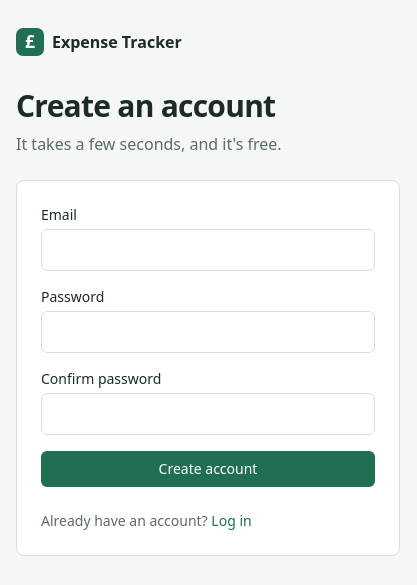
Test: RegisterPage › stops when the passwords don't match
The width and height of the screenshot is (417, 585).
Type "zain@example.com" into the field labelled "Email" at (208, 250), box [41,229,375,271]
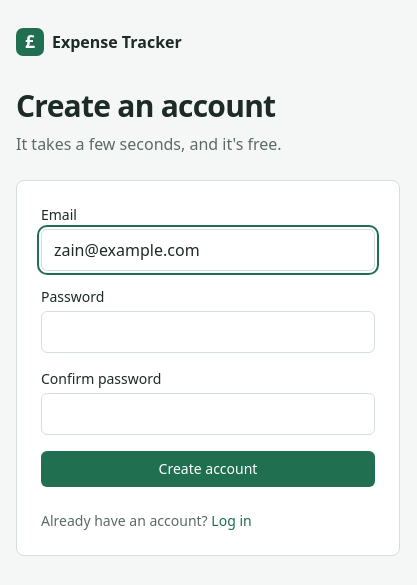
Type "correct-horse-battery" into the password field labelled "Password" at (208, 332), box [41,311,375,353]
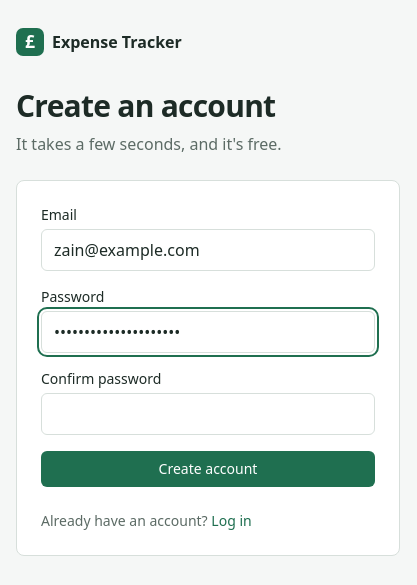
Type "something-else" into the password field labelled "Confirm password" at (208, 414), box [41,393,375,435]
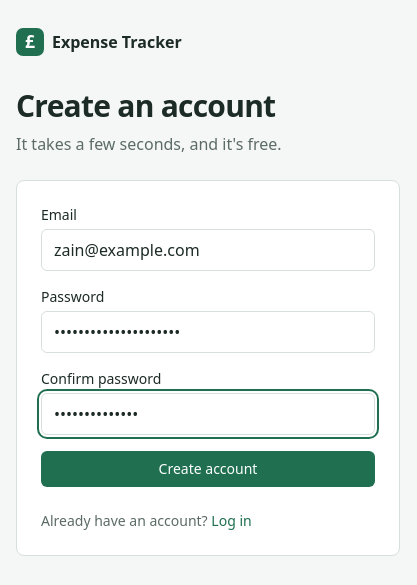
Click the button "Create account" at (208, 469), box [41,451,375,487]
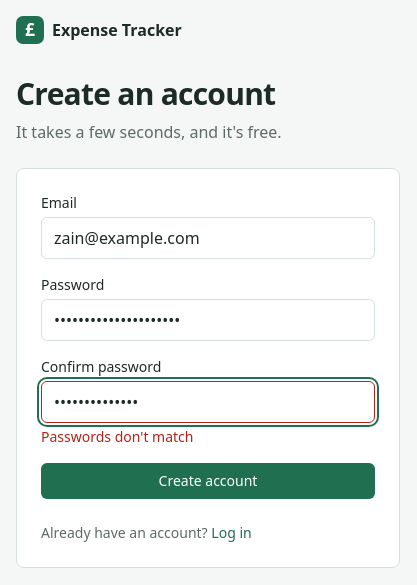
Expected: the text "Passwords don't match" is shown, [41,427,194,446]
